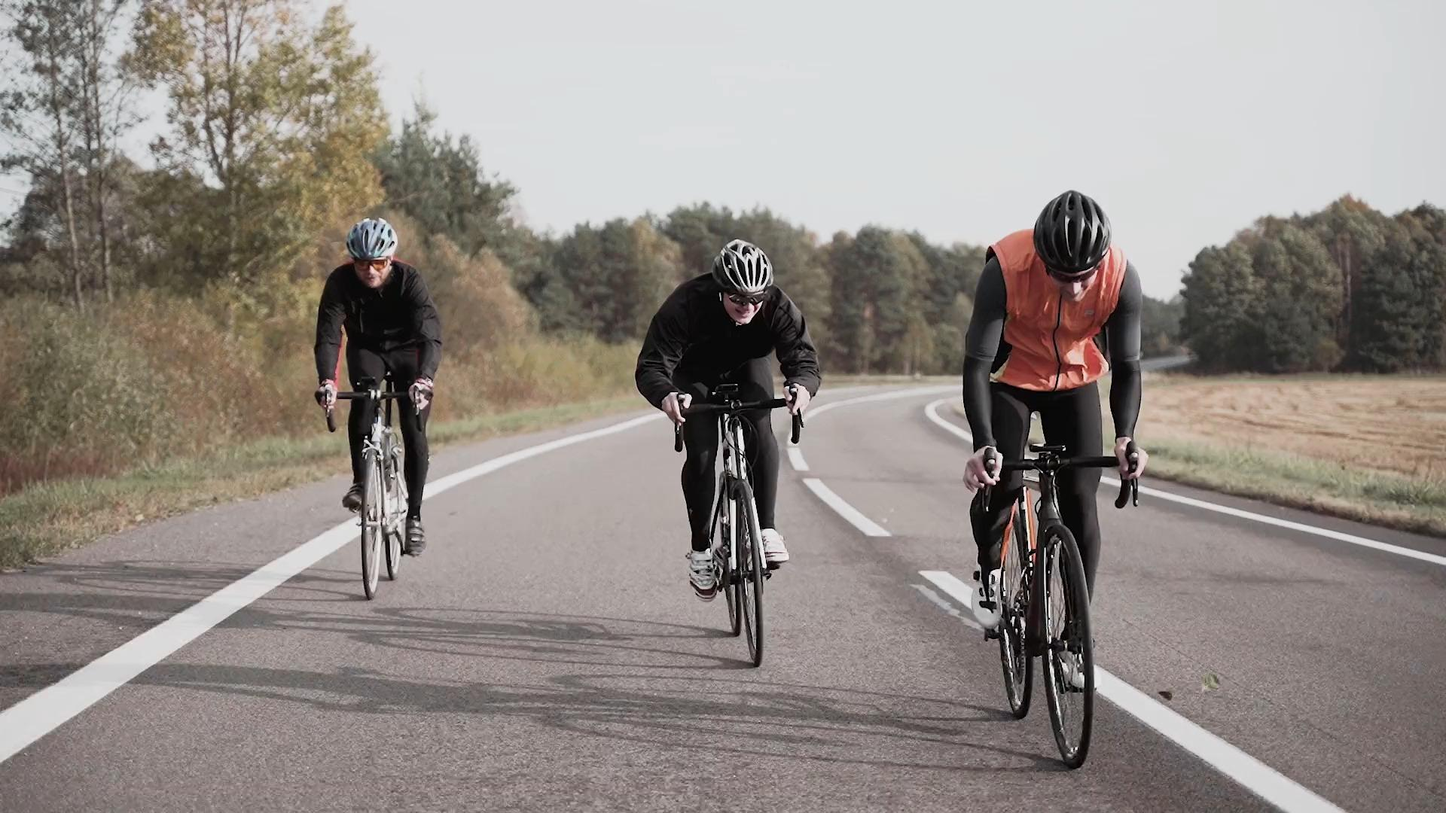bicyclist: (961, 189, 1144, 768), (636, 238, 820, 666), (314, 216, 445, 601)
helmet: (1033, 187, 1114, 304), (711, 239, 774, 327), (345, 217, 399, 289)
